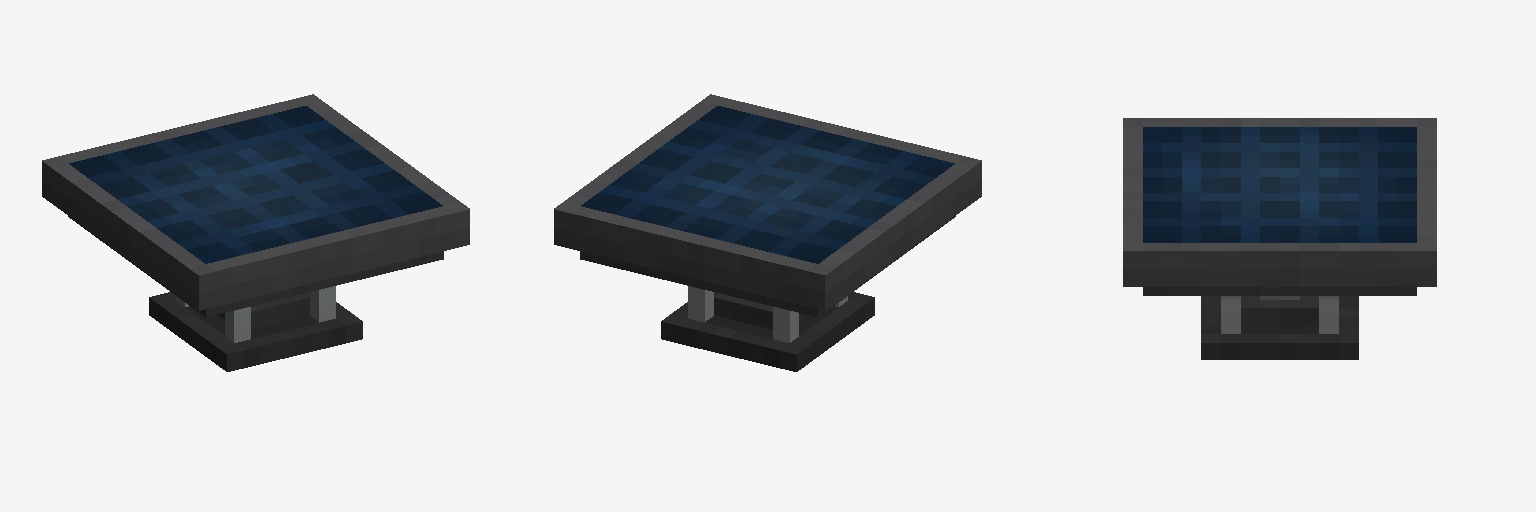
3 renders of one model, left to right at view 1: azimuth 30°, elevation 25°; view 2: azimuth 150°, elevation 25°; view 3: azimuth 270°, elevation 25°, orthographic.
Parts seen in each view (by area): view 1: solarPanel, solarPanelPort, solarPanelBottom, solarPanelPipeBase, solarPanelRod4, solarPanelRod3; view 2: solarPanel, solarPanelPort, solarPanelBottom, solarPanelPipeBase, solarPanelRod3, solarPanelRod2; view 3: solarPanel, solarPanelPort, solarPanelBottom, solarPanelPipeBase, solarPanelRod3, solarPanelRod4.
Boxes of the visible parts, box(x1,y1,x2,y2) form: solarPanel: box(42, 94, 469, 310); solarPanelPort: box(149, 292, 362, 371); solarPanelBottom: box(68, 216, 443, 316); solarPanelPipeBase: box(218, 294, 309, 329); solarPanelRod4: box(310, 286, 335, 322); solarPanelRod3: box(225, 307, 250, 342); solarPanel: box(554, 94, 981, 310); solarPanelPort: box(661, 292, 874, 371); solarPanelBottom: box(580, 216, 955, 316); solarPanelPipeBase: box(714, 294, 805, 329); solarPanelRod3: box(688, 286, 847, 322); solarPanelRod2: box(773, 307, 798, 342); solarPanel: box(1123, 118, 1436, 286); solarPanelPort: box(1201, 296, 1358, 359); solarPanelBottom: box(1143, 287, 1416, 295); solarPanelPipeBase: box(1241, 296, 1318, 325); solarPanelRod3: box(1319, 296, 1338, 333); solarPanelRod4: box(1221, 296, 1240, 333).
Bounding box in the file's own units: 1 × 0.5 × 1.
Materials: 1 (1 with a texture image).